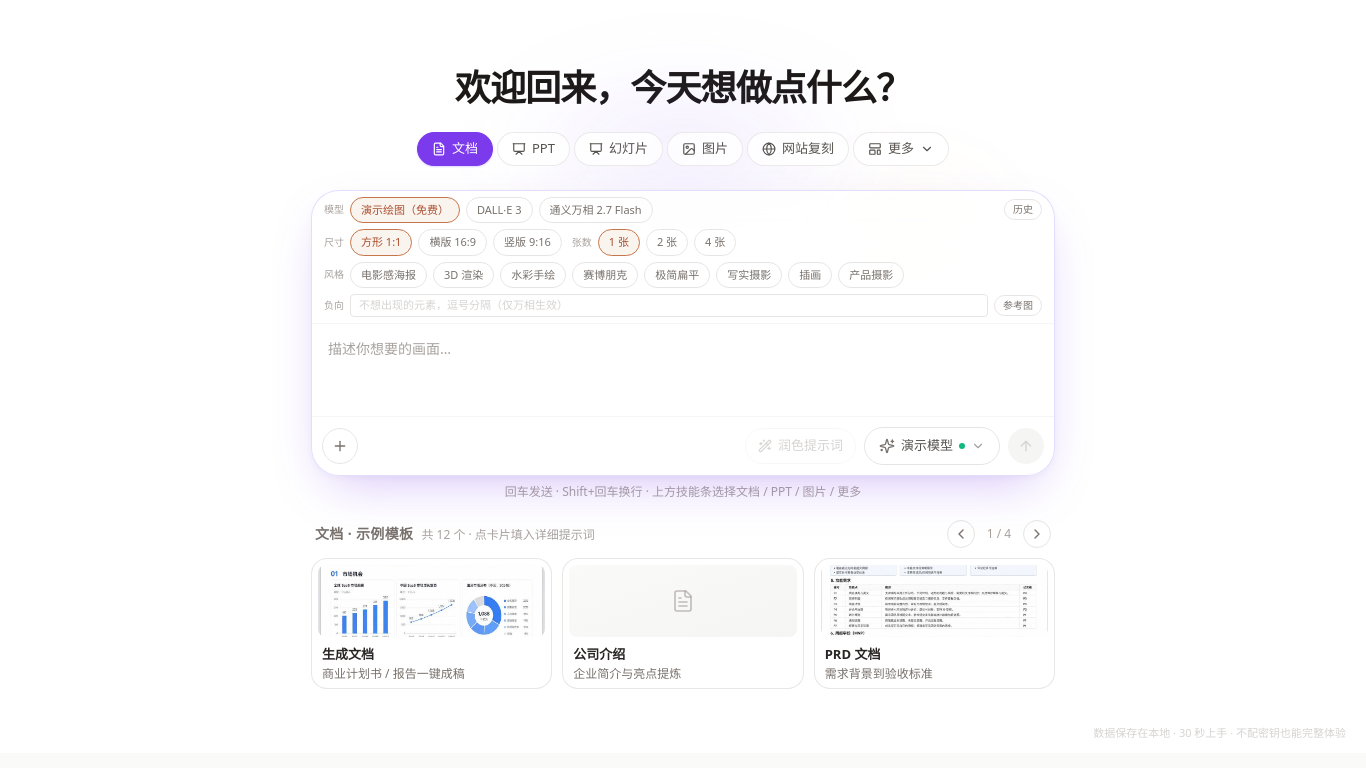
Test: ChatPanel 模式路由 › IMG6: 历史面板可开关，空历史显示占位
The image size is (1366, 768).
Expected: the text "还没有历史记录" is not shown
Click the button "历史" at (1023, 210), box [1004,199,1042,220]
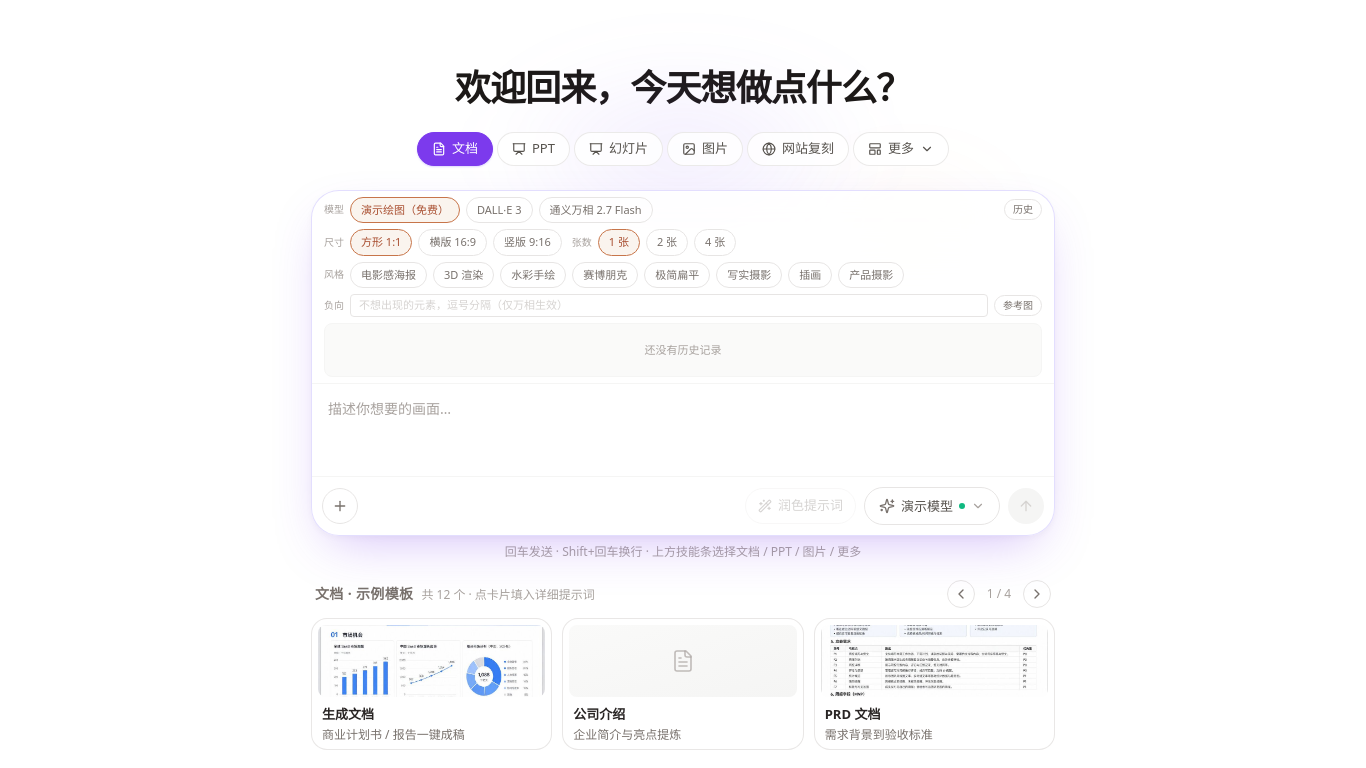
Expected: the text "还没有历史记录" is shown, [644,342,722,356]
Click the button "历史" at (1023, 210), box [1004,199,1042,220]
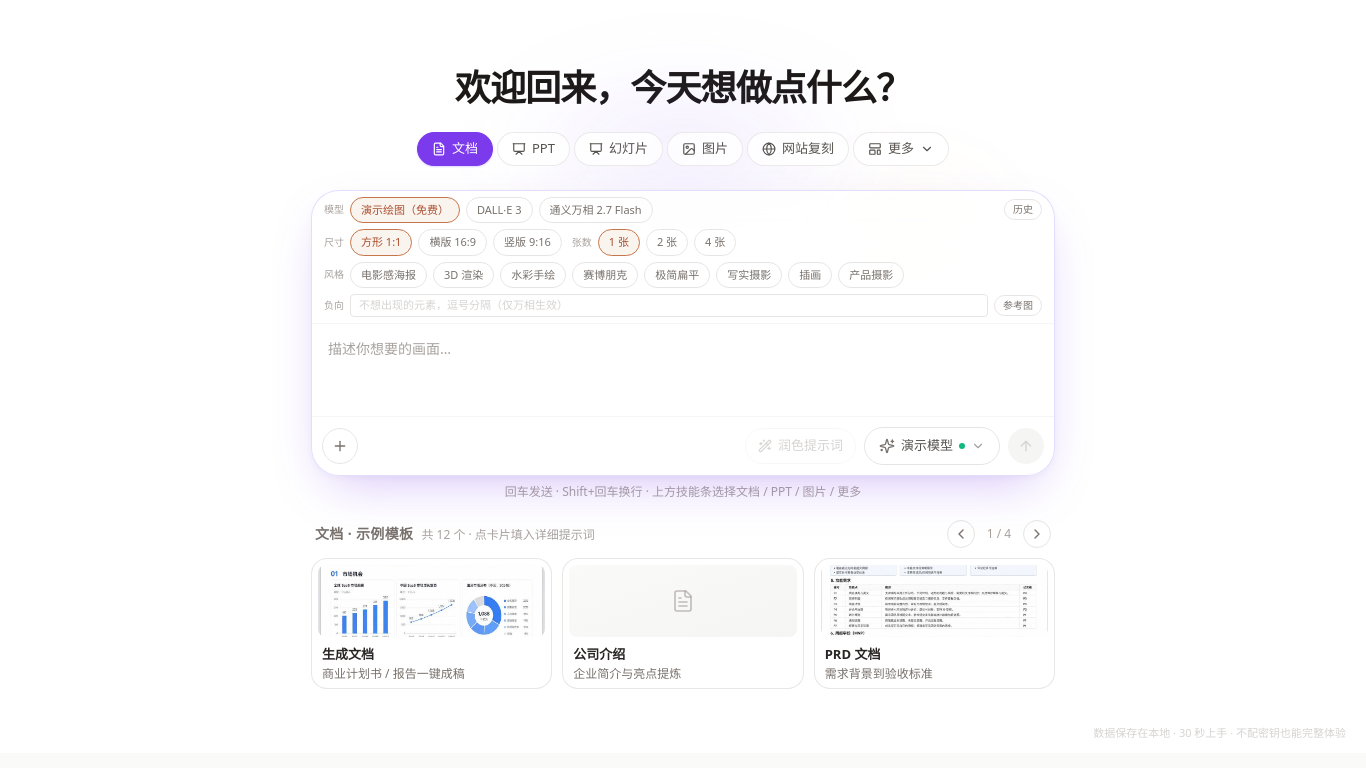
Expected: the text "还没有历史记录" is gone
